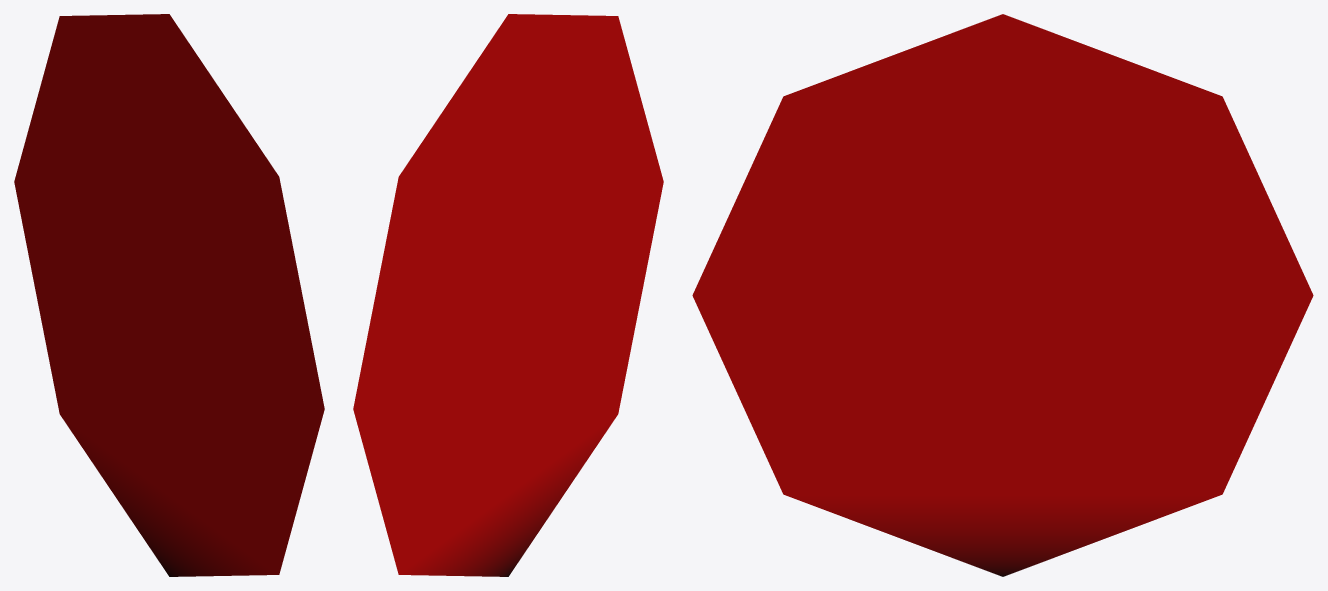
File: FanCoral_v01a.fbx
3 renders of one model, left to right at view 1: azimuth 30°, elevation 25°; view 2: azimuth 150°, elevation 25°; view 3: azimuth 270°, elevation 25°, orthographic.
Parts seen in each view (by area): view 1: FanCoral_Geo; view 2: FanCoral_Geo; view 3: FanCoral_Geo.
Part boxes in pixels (x1,y1,x2,y2): FanCoral_Geo: (14,14,324,576); FanCoral_Geo: (353,14,663,576); FanCoral_Geo: (692,14,1313,576).
Size of the model in its own units: 1.07e-08 by 5.44 by 5.44.
